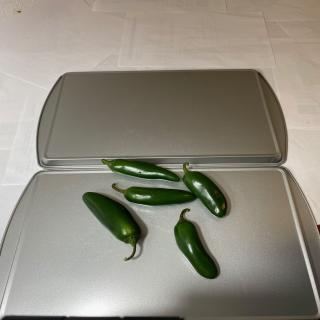Chilli: (82, 191, 142, 261), (174, 208, 218, 279), (182, 161, 228, 218), (111, 182, 197, 207), (101, 158, 180, 182)
